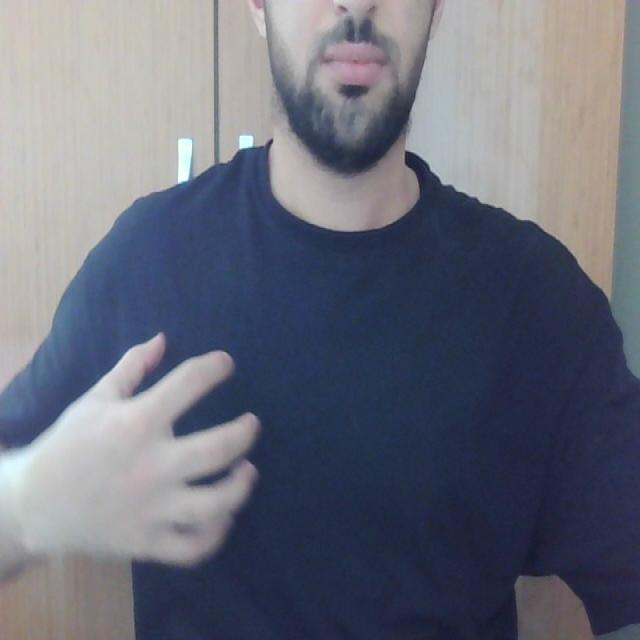Anne: (46, 319, 282, 577)
